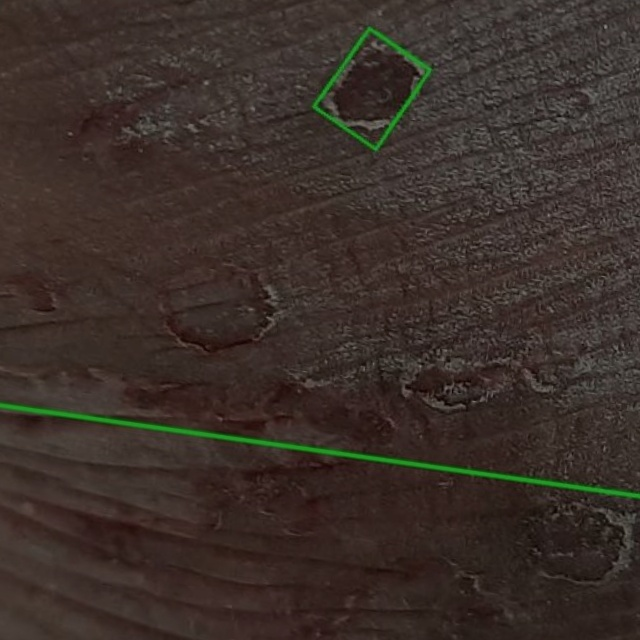Contact Dermatitis: (0, 0, 639, 497), (315, 28, 430, 150)
